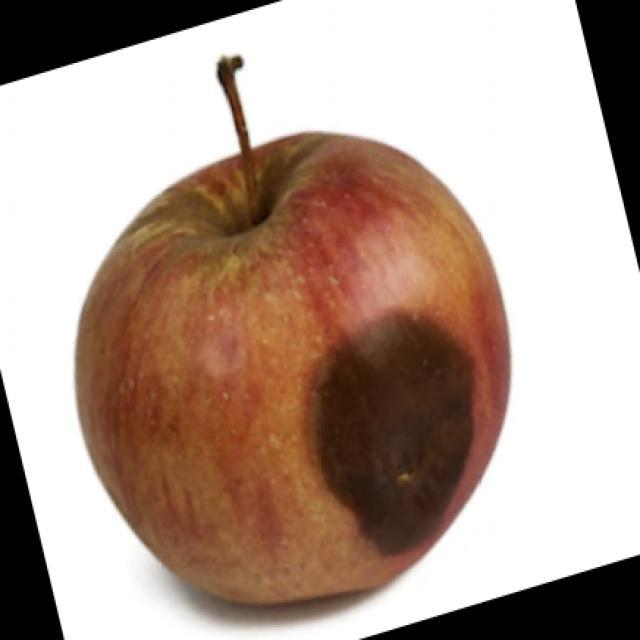Rotten: (77, 125, 508, 603)
